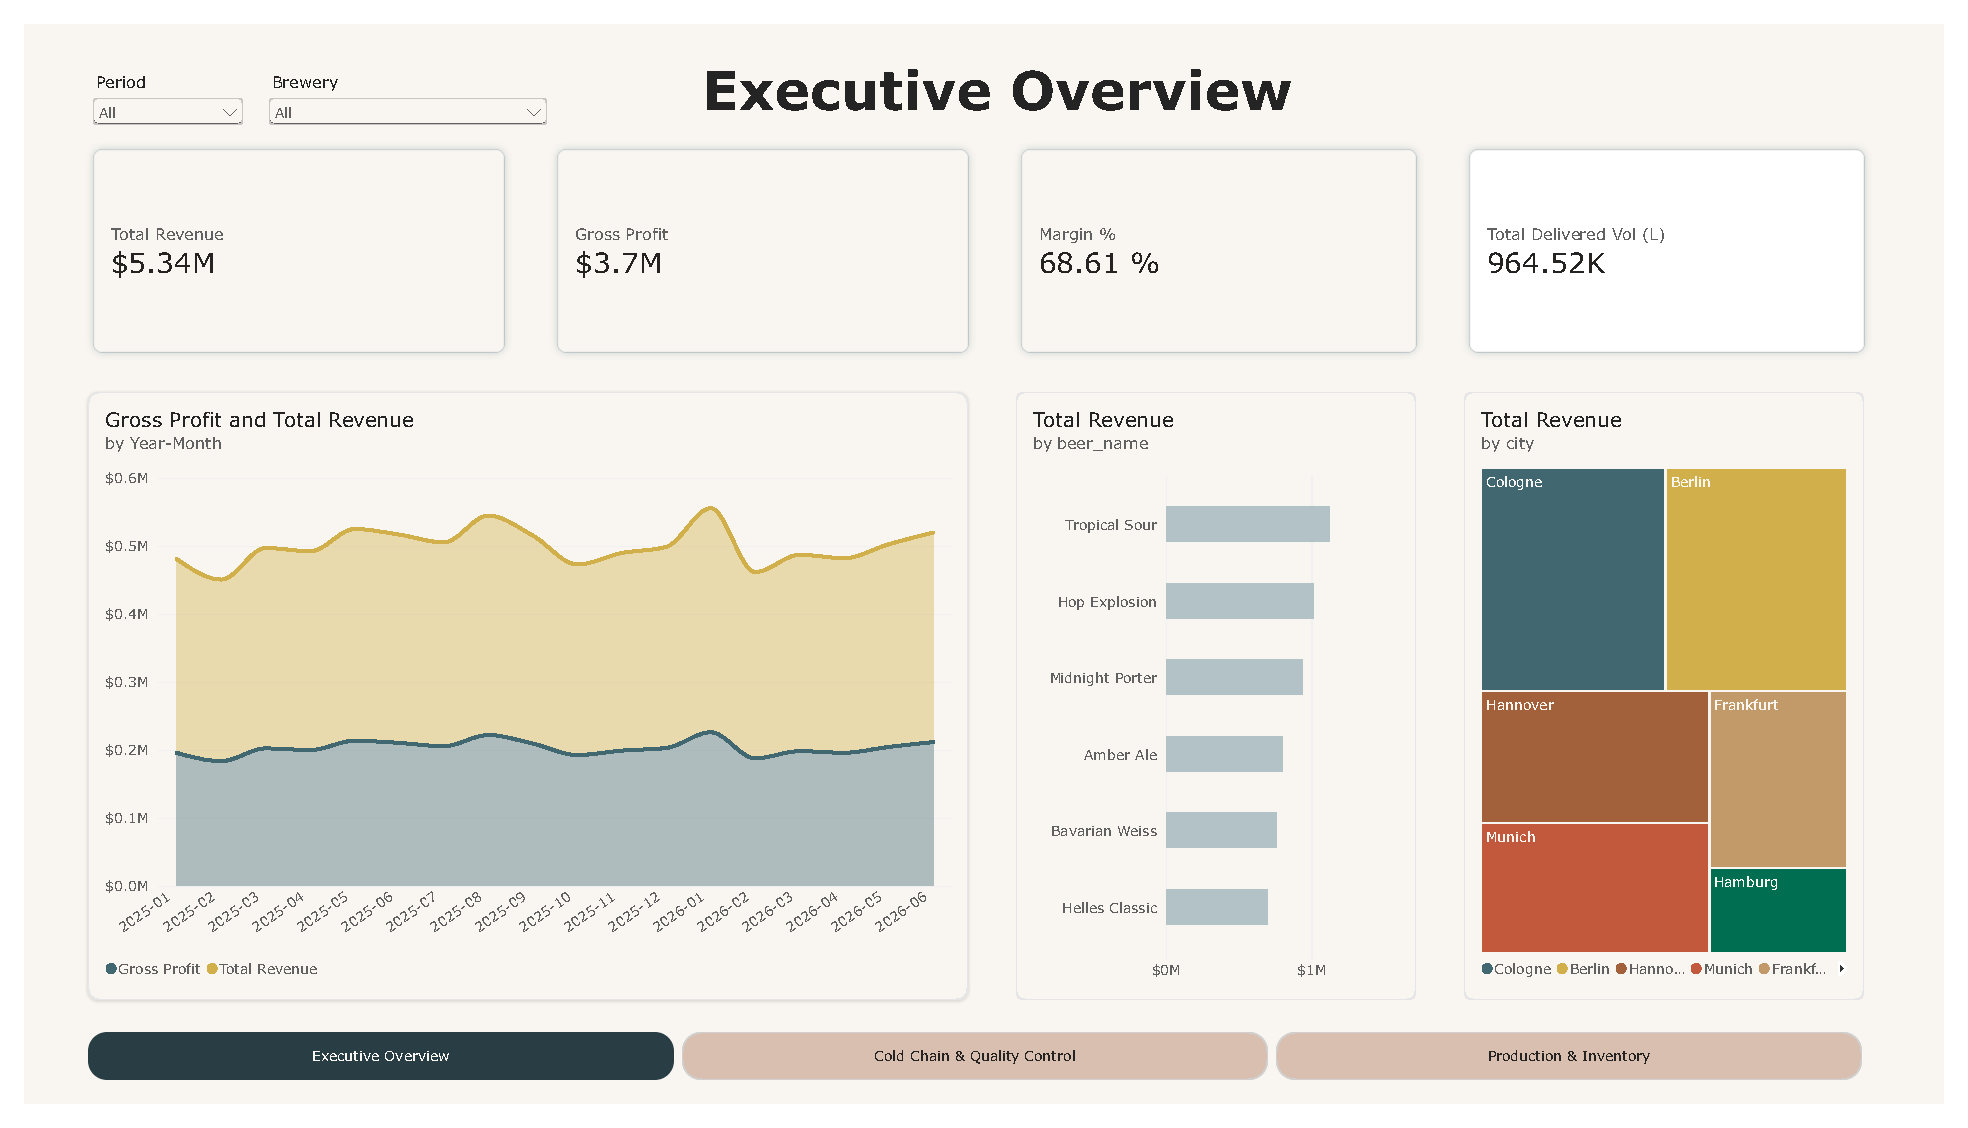

The page's visual inventory and layout, read from the dashboard file:
{"tool":"powerbi","page":{"name":"Executive Overview","canvas":[1920,1080],"ordinal":0},"visuals":[{"type":"textbox","box":[576,32,812.6,87.5],"z":0},{"type":"cardVisual","fields":{"Data":["_Measures.Total Revenue"]},"box":[58.6,115.2,432,224],"z":1000},{"type":"cardVisual","fields":{"Data":["_Measures.Gross Profit"]},"box":[522.6,115.2,432,224],"z":2000},{"type":"cardVisual","fields":{"Data":["_Measures.Margin %"]},"box":[986.6,115.2,416,224],"z":3000},{"type":"cardVisual","fields":{"Data":["_Measures.Total Delivered Vol (L)"]},"box":[1434.6,115.2,416,224],"z":4000},{"type":"stackedAreaChart","fields":{"Category":["dim_date.Year-Month"],"Y":["_Measures.Gross Profit","_Measures.Total Revenue"]},"box":[64,368,880,608],"z":5000},{"type":"barChart","fields":{"Category":["dim_beers.beer_name"],"Y":["_Measures.Total Revenue"]},"box":[992,368,400,608],"z":6000},{"type":"treemap","fields":{"Group":["dim_bars.city","dim_bars.bar_type"],"Values":["_Measures.Total Revenue"]},"box":[1440,368,400,608],"z":7000},{"type":"slicer","fields":{"Values":["dim_date.Year"]},"box":[64,48,160,64],"z":8000},{"type":"slicer","fields":{"Values":["dim_breweries.brewery_name"]},"box":[240,48,288,80],"z":9000},{"type":"pageNavigator","box":[64,1008,1776,48],"z":10000}]}

Visuals, with their boxes in screenshot pixels (x1, y1, x2, y2), scaled from the page's 1920x1080 canvas onto the 1968x1128 screenshot:
textbox: [590,33,1423,125]
cardVisual - _Measures.Total Revenue: [60,120,503,354]
cardVisual - _Measures.Gross Profit: [536,120,978,354]
cardVisual - _Measures.Margin %: [1011,120,1438,354]
cardVisual - _Measures.Total Delivered Vol (L): [1470,120,1897,354]
stackedAreaChart - dim_date.Year-Month x _Measures.Gross Profit: [66,384,968,1019]
barChart - dim_beers.beer_name x _Measures.Total Revenue: [1017,384,1427,1019]
treemap - dim_bars.city x dim_bars.bar_type: [1476,384,1886,1019]
slicer - dim_date.Year: [66,50,230,117]
slicer - dim_breweries.brewery_name: [246,50,541,134]
pageNavigator: [66,1053,1886,1103]
